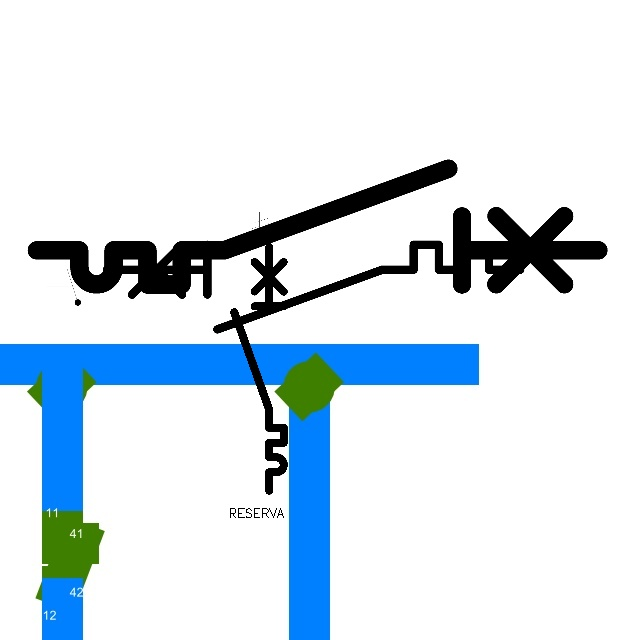interruptor_termomagnetico: (22, 154, 613, 299), (96, 234, 531, 340), (228, 240, 290, 496)
